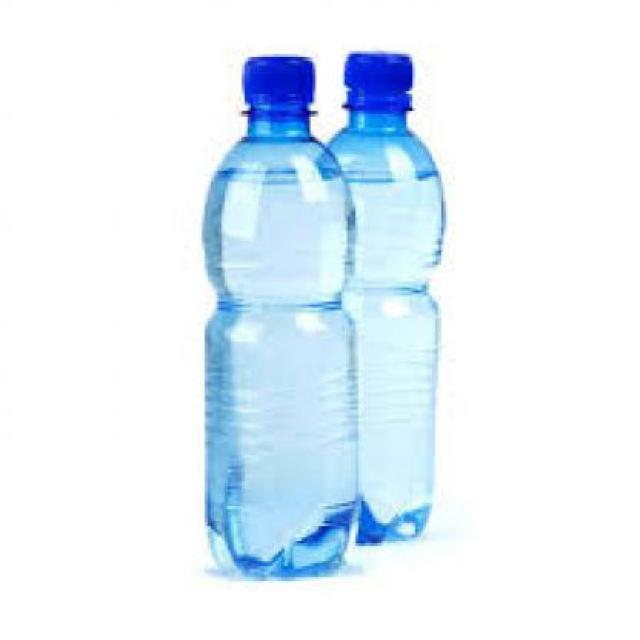Drinking: (182, 48, 364, 603)
